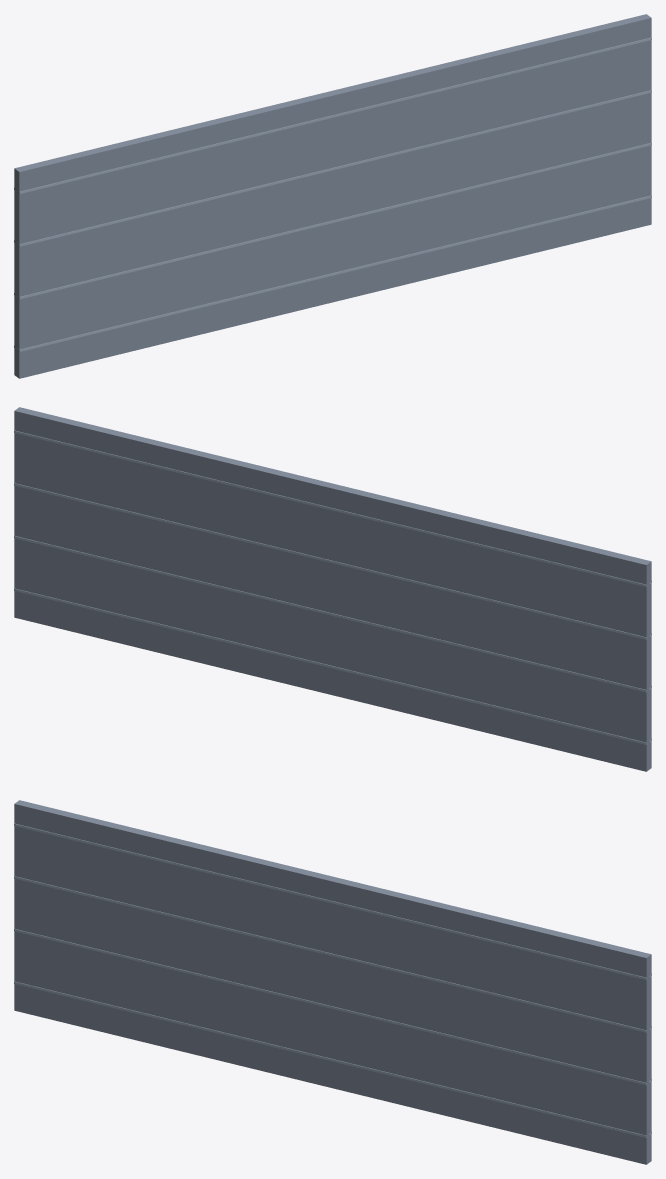
The model's file is library-back-wall.glb.
3 views of the same model, one above another, from view 1: azimuth 30°, elevation 25°; view 2: azimuth 150°, elevation 25°; view 3: azimuth 330°, elevation 25° (orthographic).
Parts seen in each view (by area): view 1: wall, beam_-1.2, beam_1.6, beam_4.4, beam_-4; view 2: wall, beam_-1.2, beam_1.6, beam_4.4, beam_-4; view 3: wall, beam_-1.2, beam_1.6, beam_4.4, beam_-4.
Boxes of the visible parts, x1=… form: wall: x1=14, y1=14, x2=651, y2=378; beam_-1.2: x1=14, y1=142, x2=651, y2=299; beam_1.6: x1=14, y1=90, x2=651, y2=246; beam_4.4: x1=14, y1=37, x2=651, y2=193; beam_-4: x1=14, y1=195, x2=651, y2=351; wall: x1=14, y1=407, x2=651, y2=771; beam_-1.2: x1=14, y1=535, x2=651, y2=692; beam_1.6: x1=14, y1=483, x2=651, y2=639; beam_4.4: x1=14, y1=430, x2=651, y2=586; beam_-4: x1=14, y1=588, x2=651, y2=744; wall: x1=14, y1=800, x2=651, y2=1164; beam_-1.2: x1=14, y1=928, x2=651, y2=1085; beam_1.6: x1=14, y1=876, x2=651, y2=1032; beam_4.4: x1=14, y1=823, x2=651, y2=979; beam_-4: x1=14, y1=981, x2=651, y2=1137.
Size of the model in its own units: 35.2 by 11 by 0.56.
